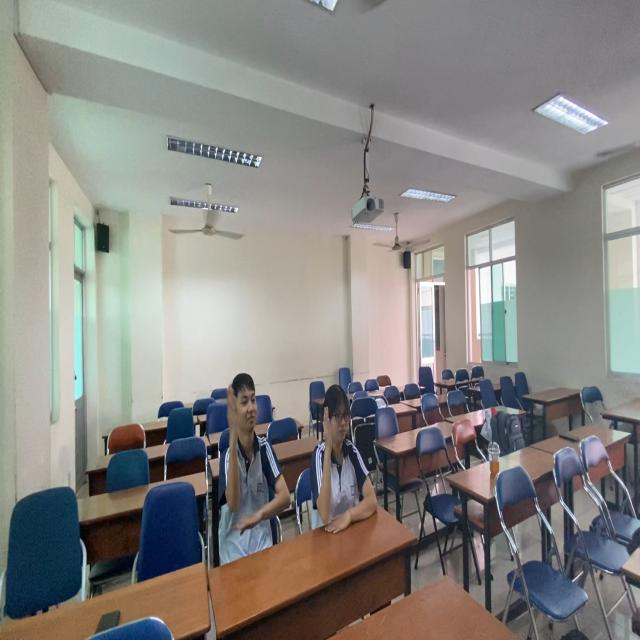raise_hand: (223, 374, 294, 551), (314, 383, 380, 542)
